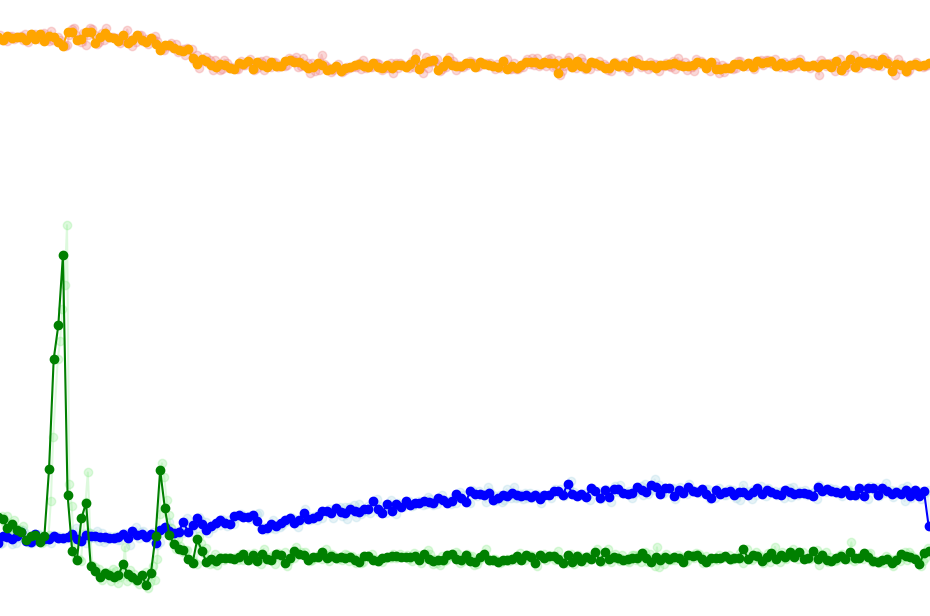Condensation (CO2): (331, 0, 928, 616), (109, 0, 331, 616)
Low CO2: (331, 0, 928, 616), (109, 0, 331, 616)
Normal: (109, 0, 928, 616), (331, 0, 928, 616), (109, 0, 331, 616)
